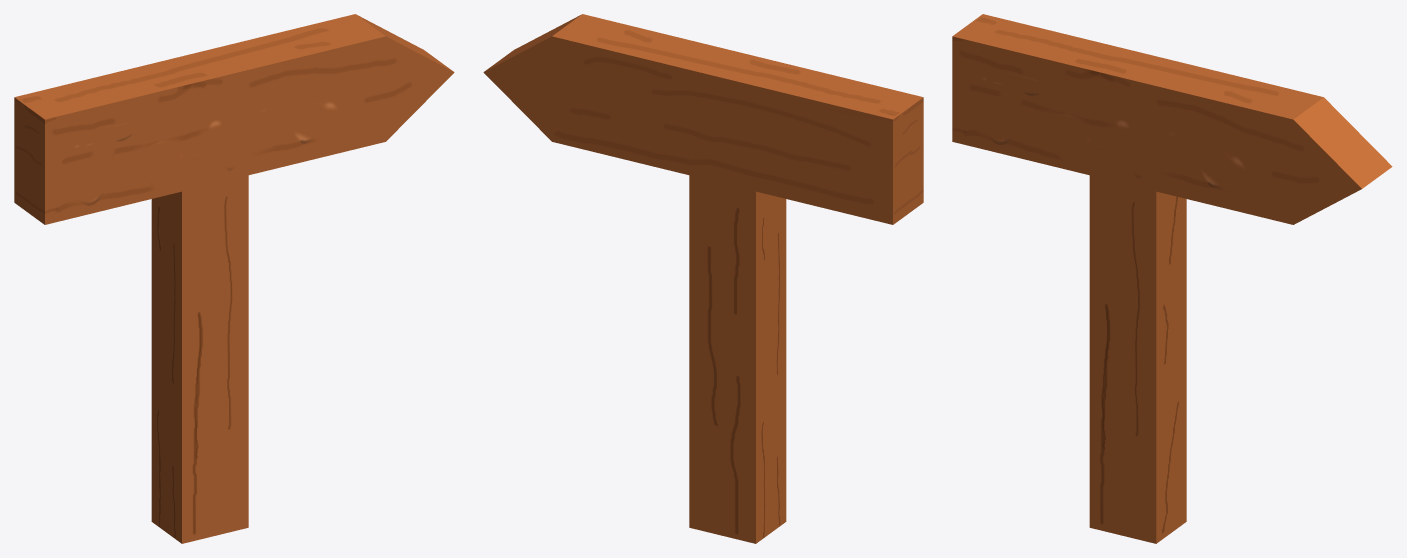
The model's file is IsometricTile_Light_SignBoard.fbx.
3 renders of one model, left to right at view 1: azimuth 30°, elevation 25°; view 2: azimuth 150°, elevation 25°; view 3: azimuth 330°, elevation 25°, orthographic.
Parts seen in each view (by area): view 1: Cube.038; view 2: Cube.038; view 3: Cube.038.
Part boxes in pixels (left/top/right/bottom): Cube.038: left=14, top=14, right=454, bottom=543; Cube.038: left=483, top=14, right=923, bottom=543; Cube.038: left=952, top=14, right=1392, bottom=543.
Bounding box in the file's own units: 0.5894 × 0.0761 × 0.6293.
